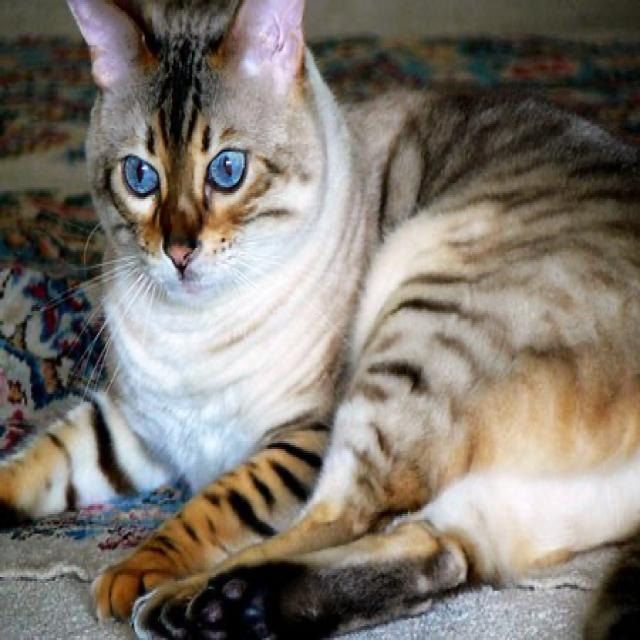cat: (66, 0, 324, 309)
